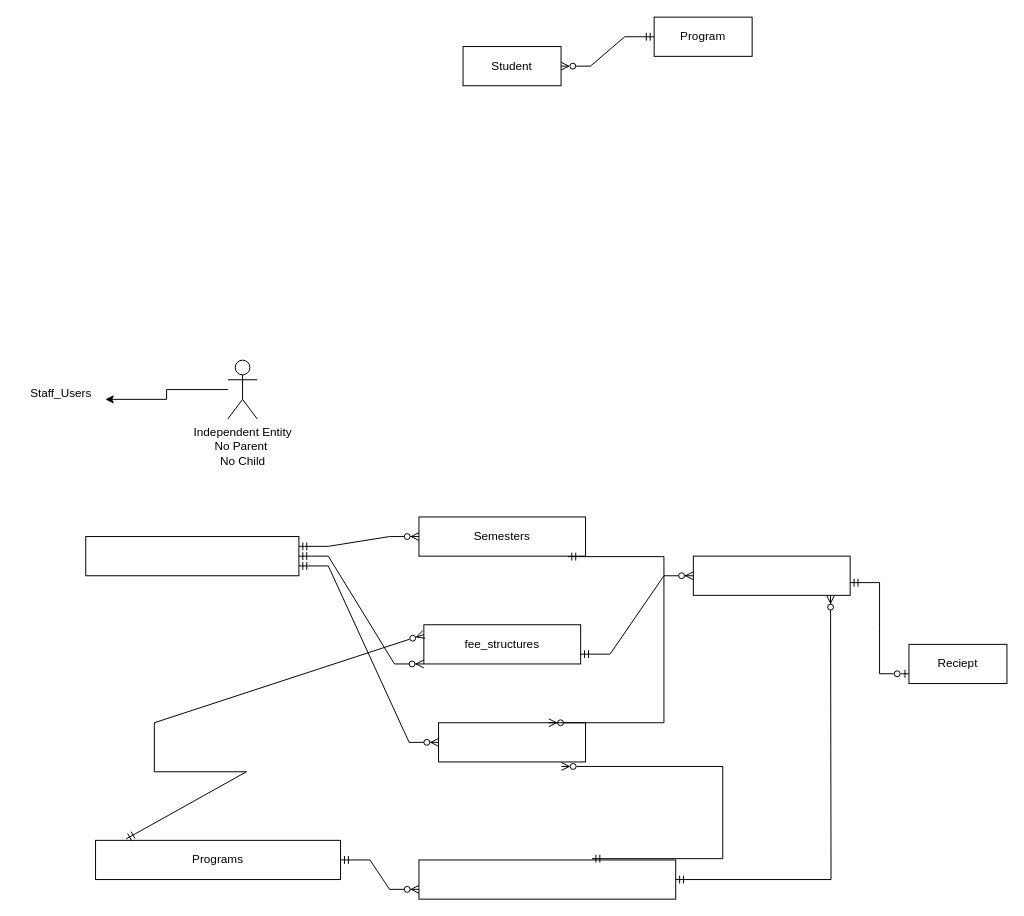
Image size: 1024x916. Some labels were removed from this diagram. The centre of each missing label's shape, as x and y in pixels:
"Accadamic_Year" belongs at pixel 192 556.
"course_registrations" belongs at pixel 512 742.
"Payments" belongs at pixel 771 575.
"Students" belongs at pixel 547 879.
